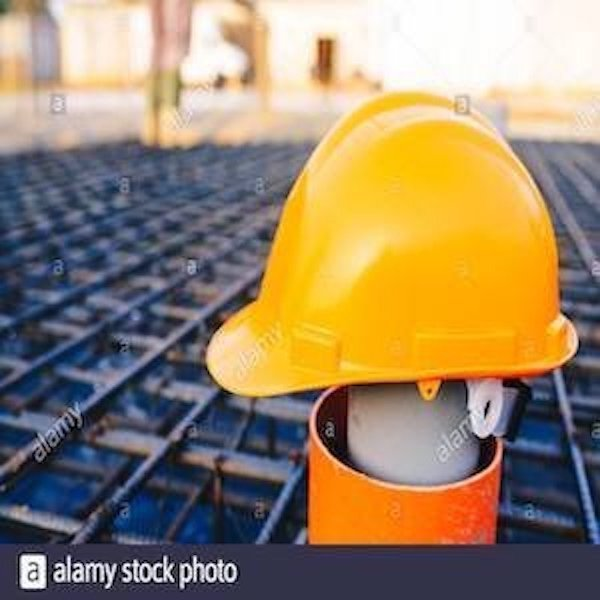helmet: (215, 94, 578, 396)
